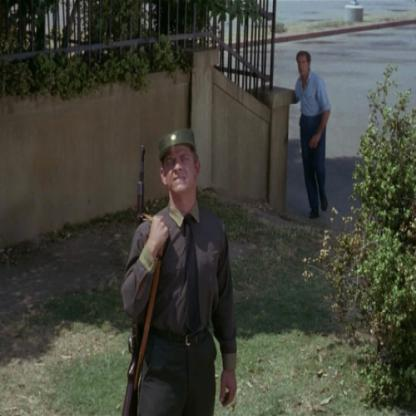Gun: (114, 140, 150, 415)
